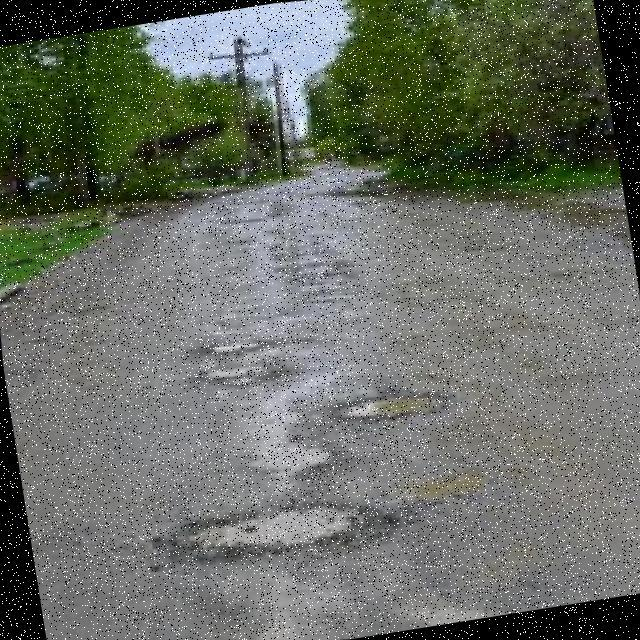Pothole: (176, 506, 394, 564), (341, 397, 432, 417)
